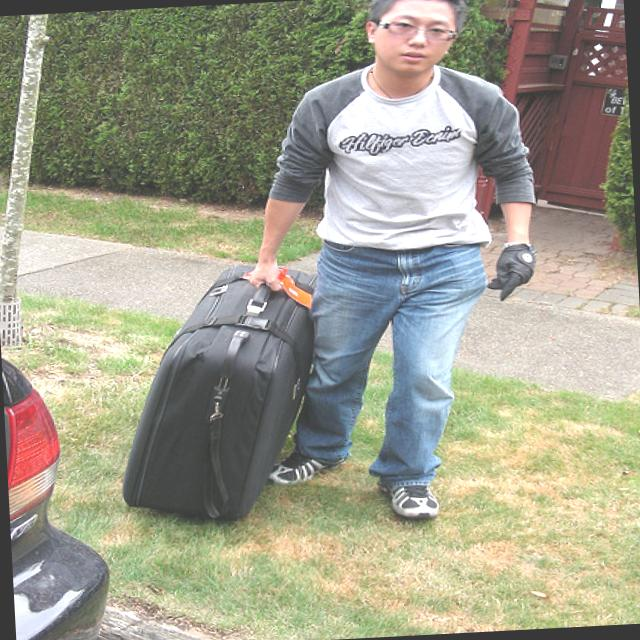Vehicle: (1, 345, 125, 640)
